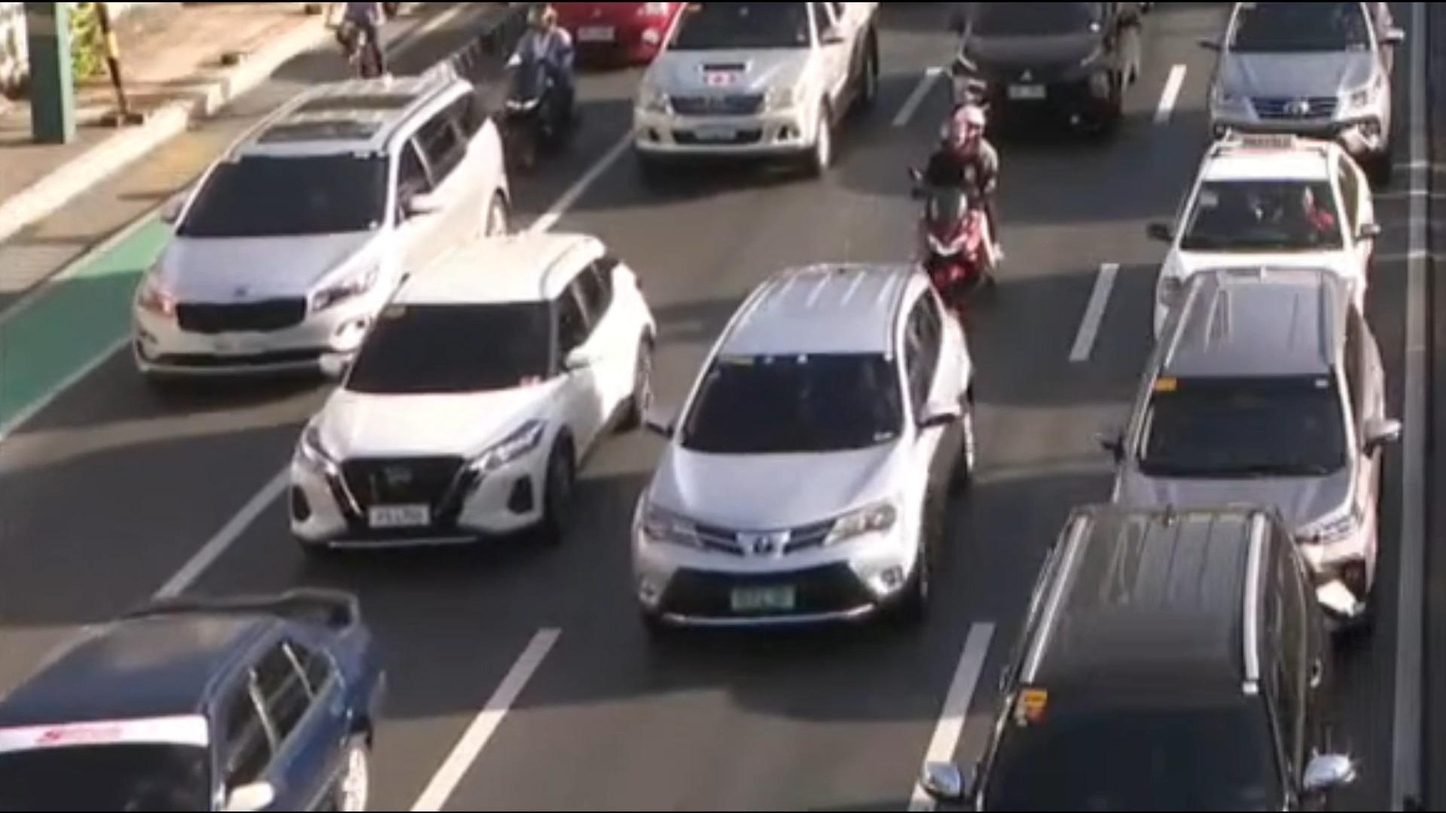Motorcycle: (512, 0, 601, 181), (922, 99, 1003, 287)
SUV: (632, 263, 976, 622), (123, 68, 505, 389), (287, 239, 652, 558), (964, 509, 1332, 813), (1116, 265, 1390, 548)
Sedan: (0, 590, 381, 813), (1154, 122, 1375, 326)
